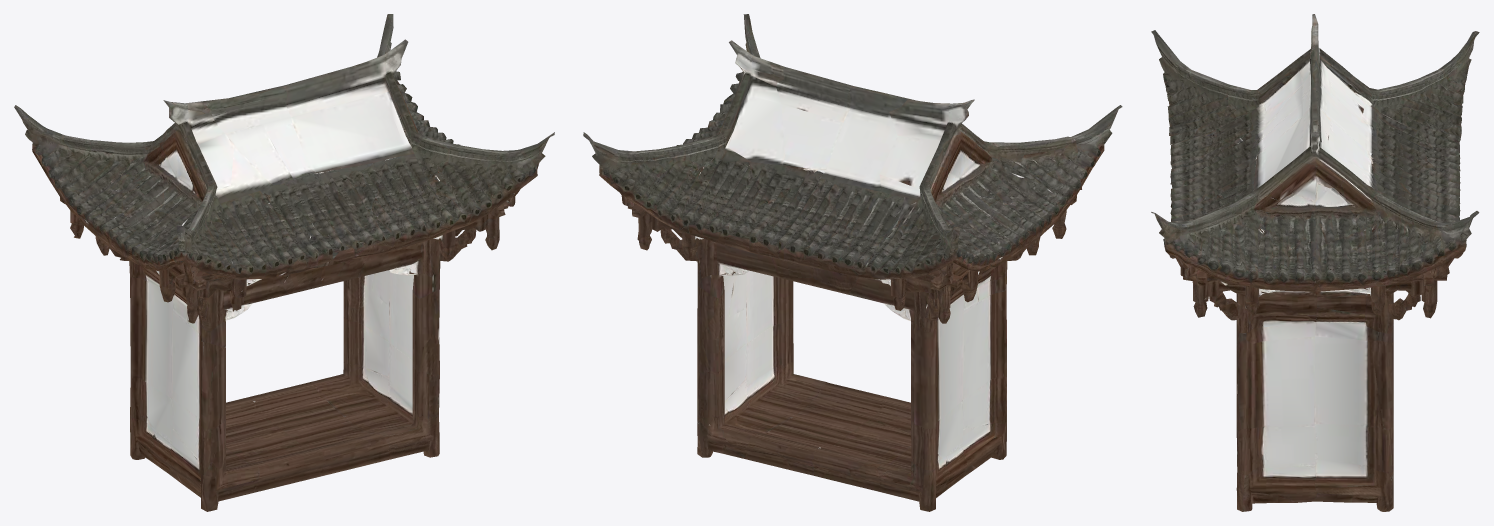
The model's file is lib_wood_pavilion.mid.glb.
3 renders of one model, left to right at view 1: azimuth 30°, elevation 25°; view 2: azimuth 150°, elevation 25°; view 3: azimuth 270°, elevation 25°, orthographic.
Bounding box in the file's own units: 1.89 × 1.84 × 1.43.
1 material, 1 textured.
